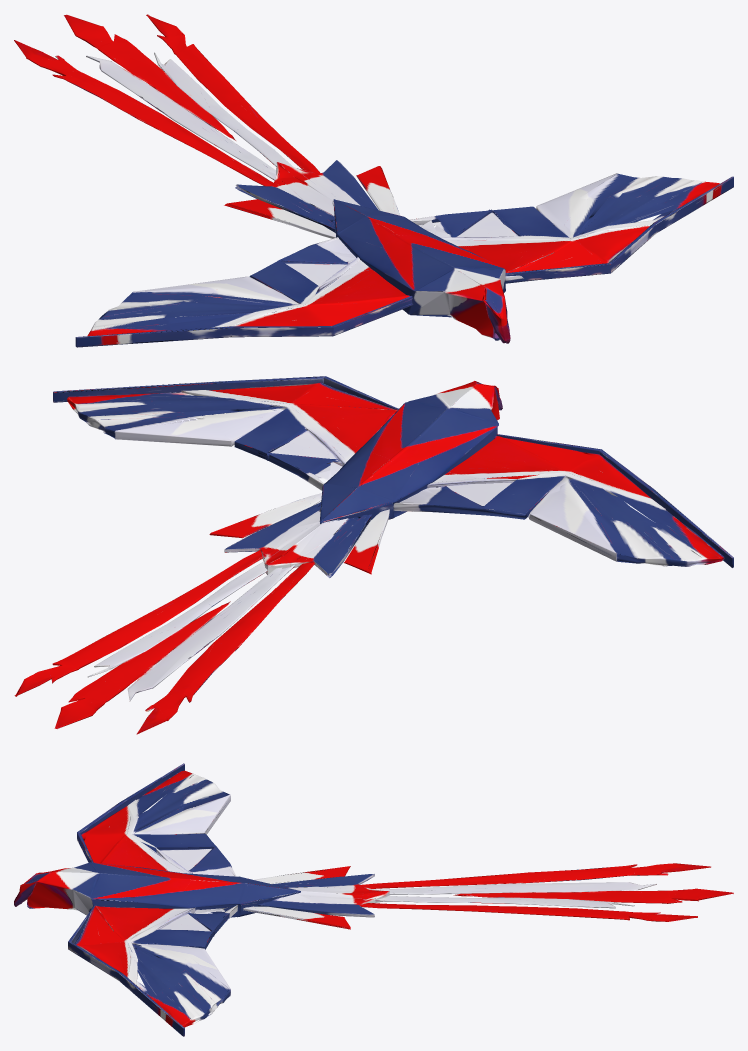
The model's file is bird_runner.glb.
The picture shows the model from 3 angles, top to bottom: view 1: azimuth 30°, elevation 25°; view 2: azimuth 150°, elevation 25°; view 3: azimuth 270°, elevation 25°; orthographic projection. The views are drawn at different scales.
Parts seen in each view (by area): view 1: geometry_0; view 2: geometry_0; view 3: geometry_0.
Boxes of the visible parts, x1,y1,x2,y2 form: geometry_0: (14,14,733,347); geometry_0: (14,376,733,734); geometry_0: (14,763,733,1036).
Size of the model in its own units: 0.8276 by 0.063 by 0.9507.
Materials: 1 (1 with a texture image).
